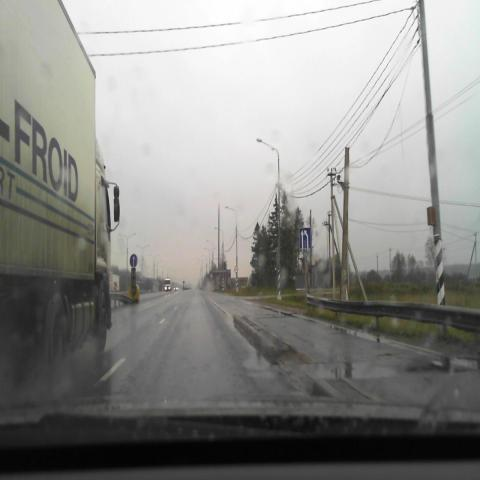5_15_5: (299, 228, 310, 250)
